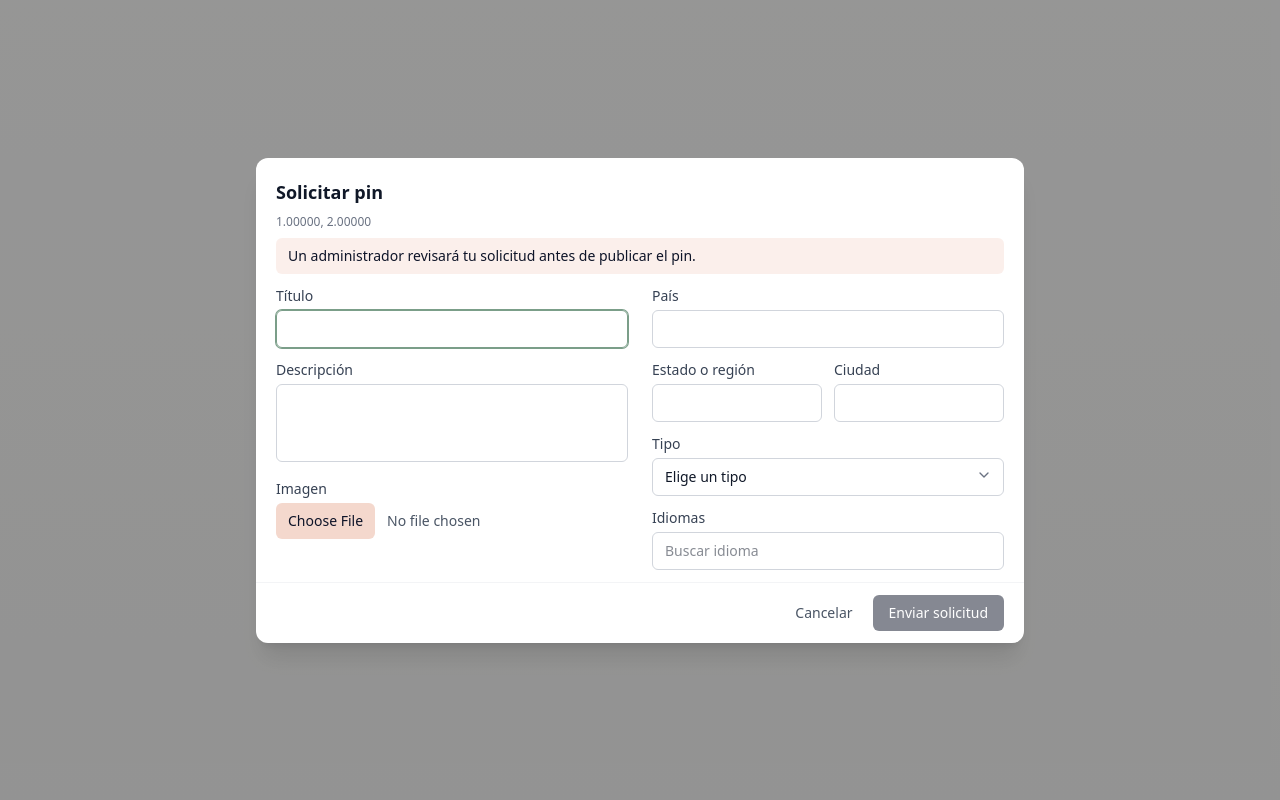
Test: PinFormModal › request mode › shows the failure message
Type "Base" into the field labelled "Título" at [452, 328], box [276, 310, 628, 348]
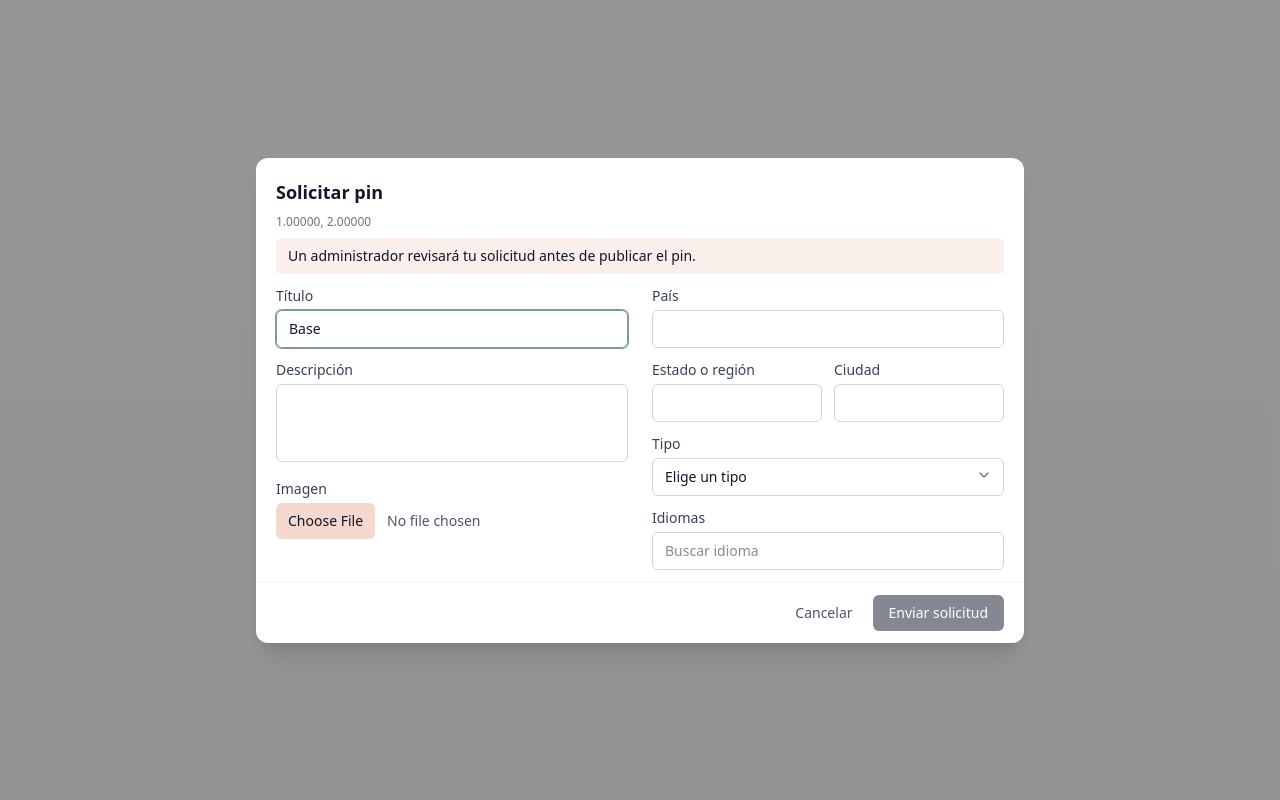
Type "México" into the dropdown labelled "País" at [828, 328], box [652, 310, 1004, 348]
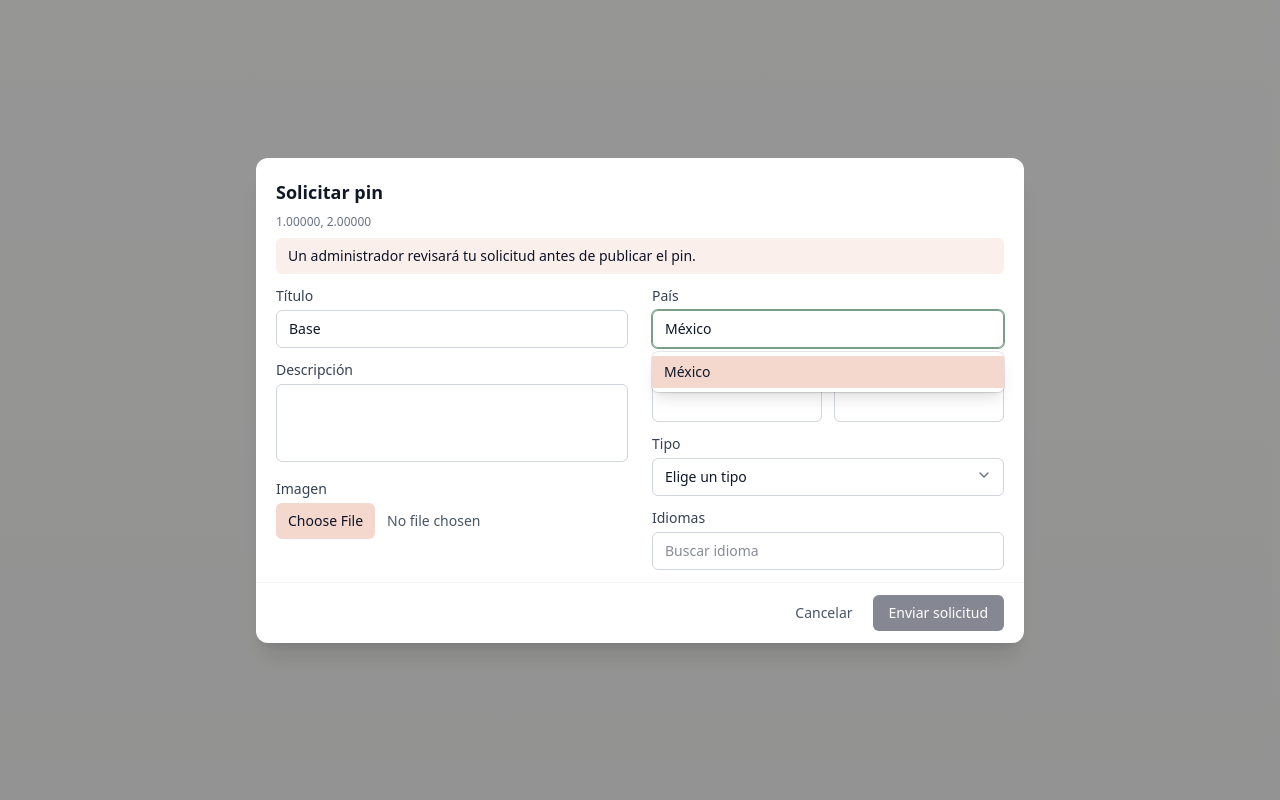
Select "Familia" in the dropdown labelled "Tipo" at [828, 476], box [652, 458, 1004, 496]
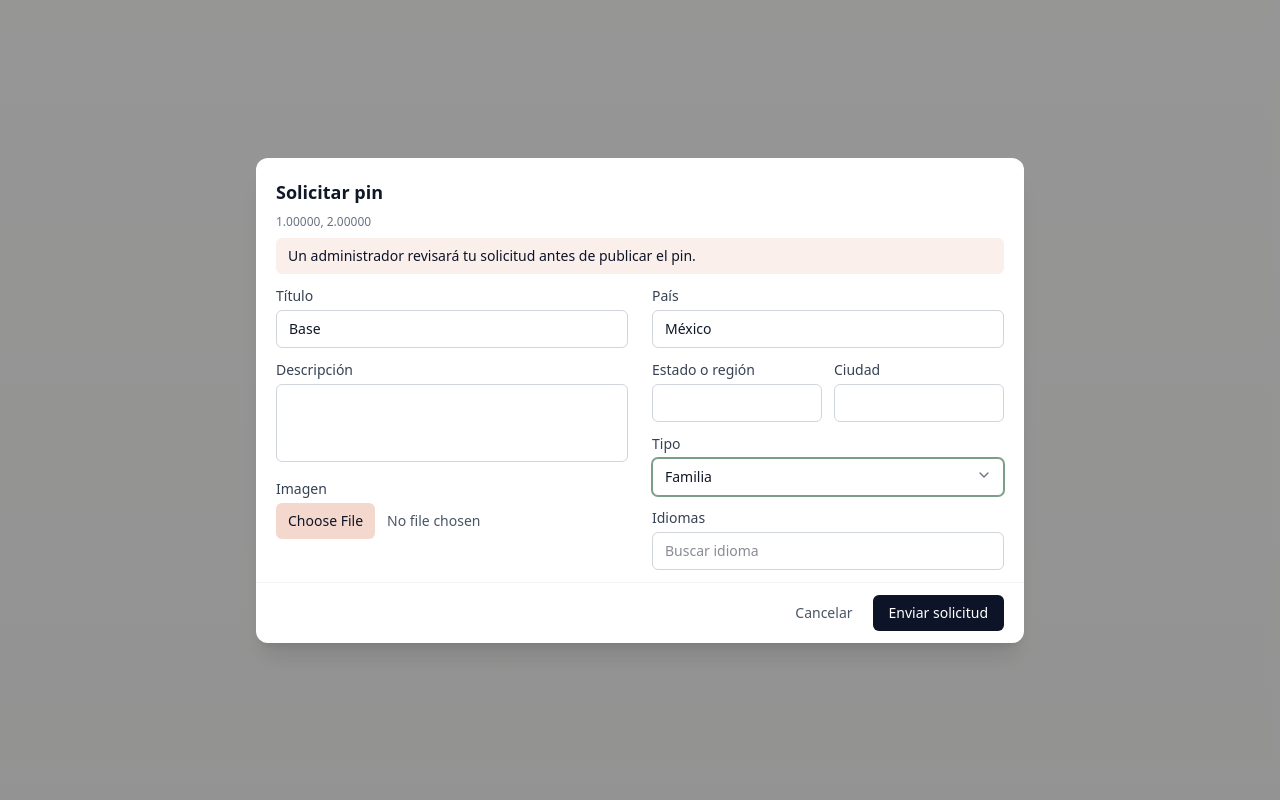
Click the button "Enviar solicitud" at [938, 612], box [872, 594, 1004, 630]
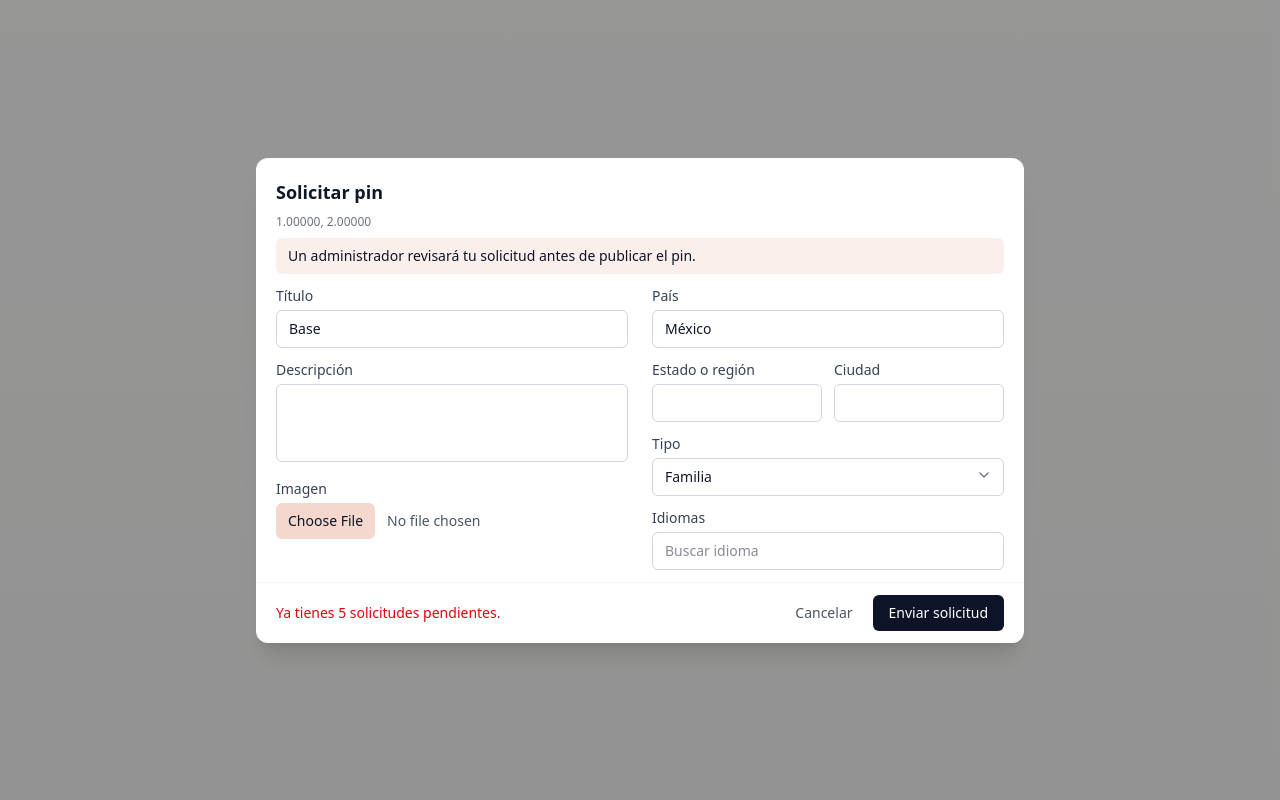
Result: the text "Ya tienes 5 solicitudes pendientes." is shown at [276, 602, 500, 622]
